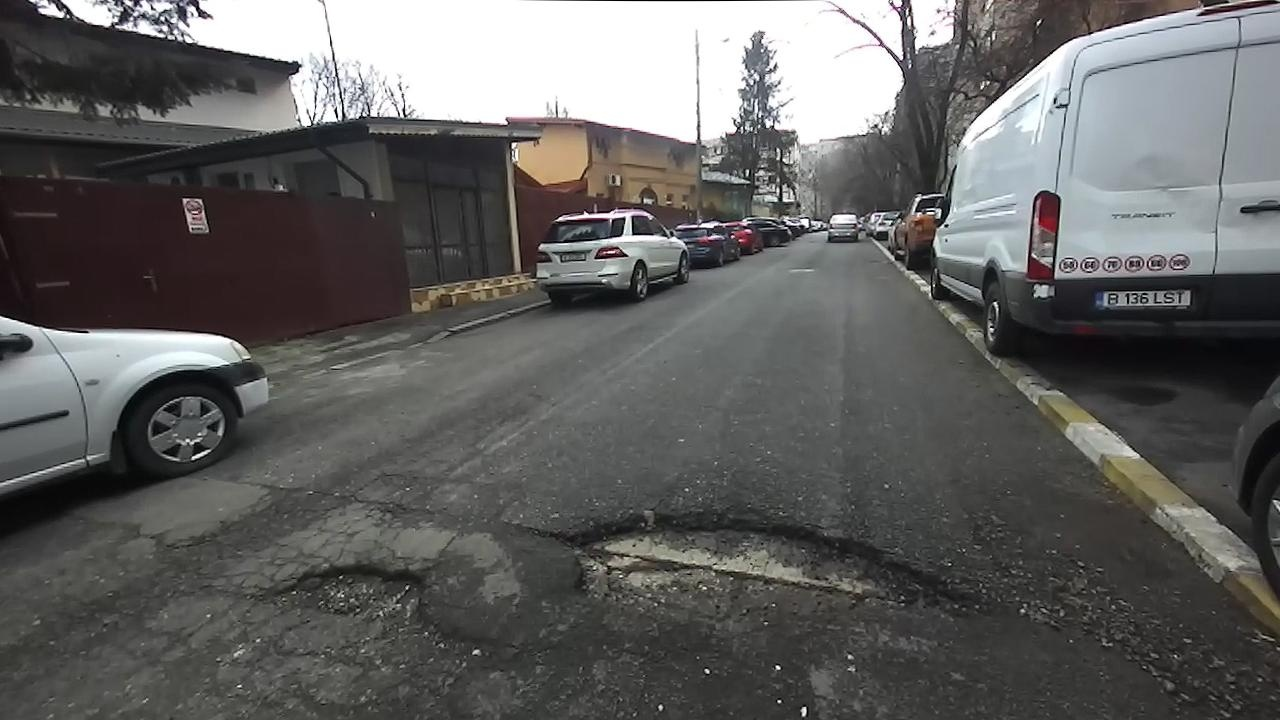pothole: (533, 503, 986, 640), (262, 553, 448, 647)
